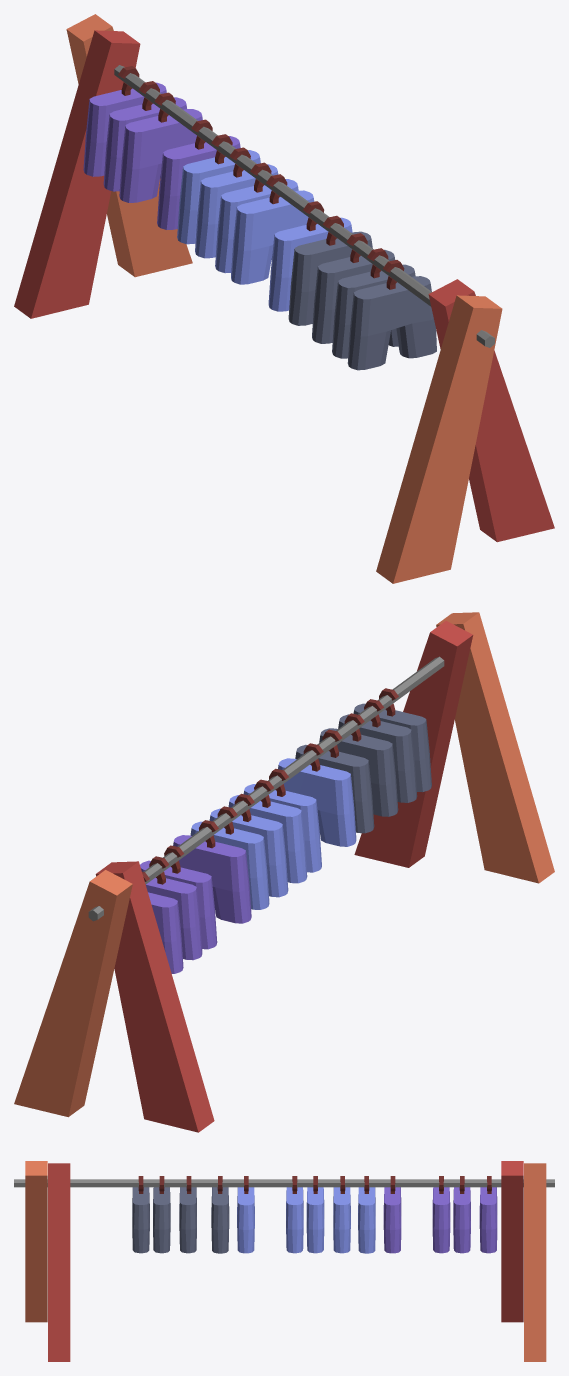
File: short-short.glb
3 views of the same model, one above another, from view 1: azimuth 30°, elevation 25°; view 2: azimuth 150°, elevation 25°; view 3: azimuth 270°, elevation 25° (orthographic). The views are drawn at different scales.
Parts seen in each view (by area): view 1: Cylinder.002; view 2: Cylinder.002; view 3: Cylinder.002.
Part boxes in pixels (x1,y1,x2,y2): Cylinder.002: (14,14,554,583); Cylinder.002: (14,612,554,1132); Cylinder.002: (14,1161,554,1361).
Size of the model in its own units: 5.75 by 7.89 by 22.88.
